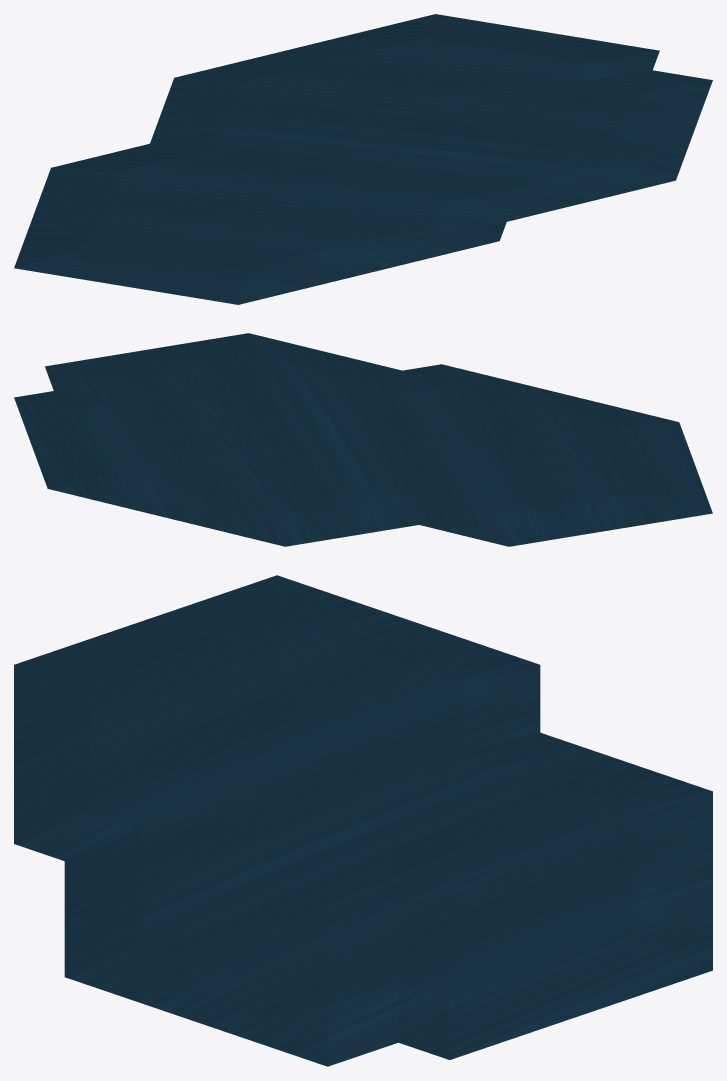
Rendered from PROP-0FDB03DA32AA_lod2.glb.
The picture shows the model from 3 angles, top to bottom: view 1: azimuth 30°, elevation 25°; view 2: azimuth 150°, elevation 25°; view 3: azimuth 270°, elevation 25°; orthographic projection. The views are drawn at different scales.
Parts seen in each view (by area): view 1: surface_hazard.007; view 2: surface_hazard.007; view 3: surface_hazard.007.
Boxes of the visible parts, x1=… form: surface_hazard.007: x1=14, y1=14, x2=712, y2=304; surface_hazard.007: x1=14, y1=333, x2=712, y2=546; surface_hazard.007: x1=14, y1=575, x2=712, y2=1066.
Size of the model in its own units: 1.65 by 0.036 by 0.9891.
Materials: 1 (1 with a texture image).
